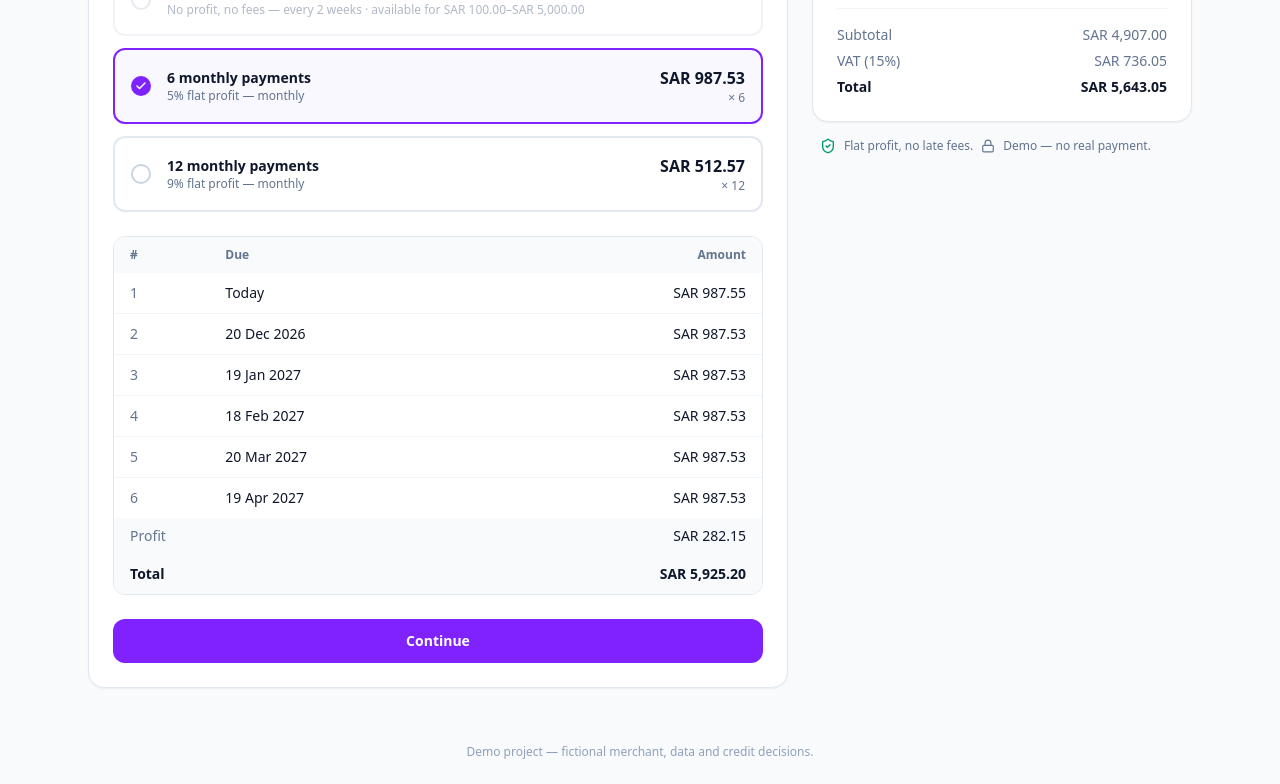
Scenario: <CheckoutPage /> › validates the details form
The image size is (1280, 784).
(page scrolled)
Click the button "Continue": (438, 641) [113,619,763,663]
(page scrolled)
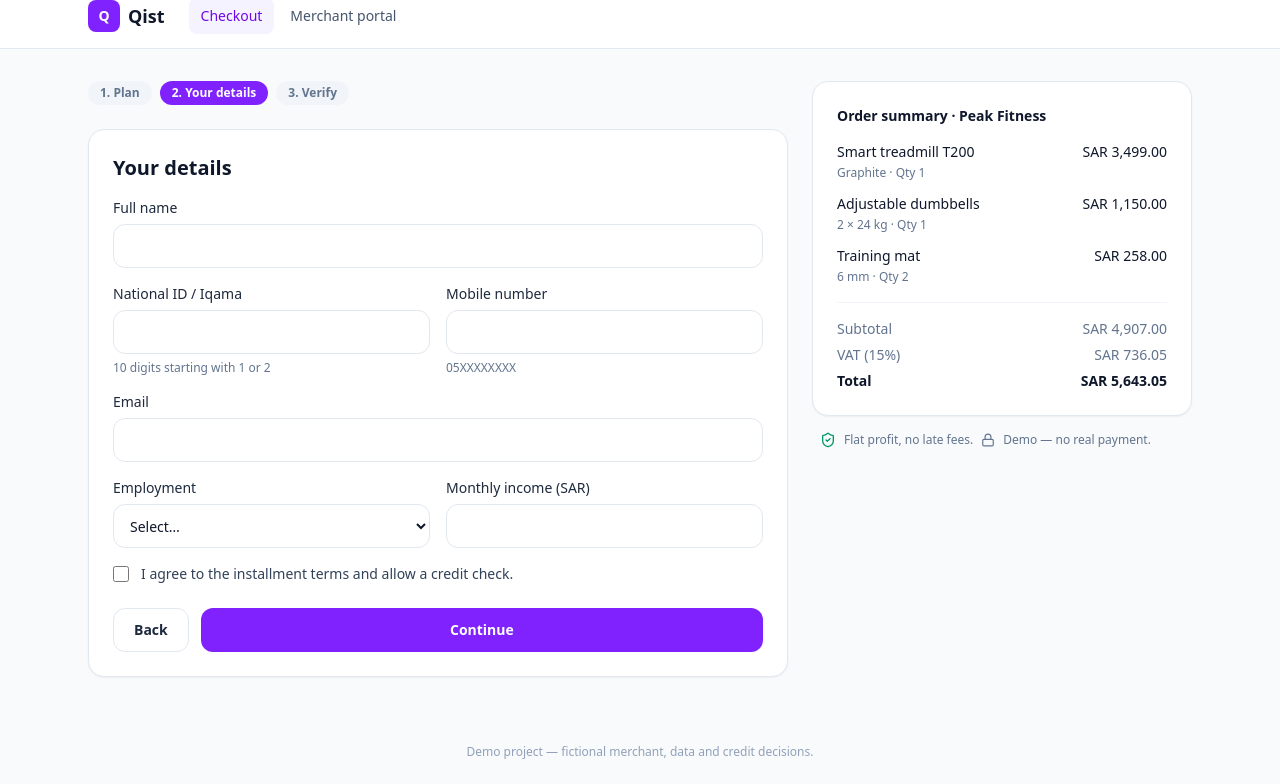
Click the button "Continue": (482, 630) [201,608,763,652]
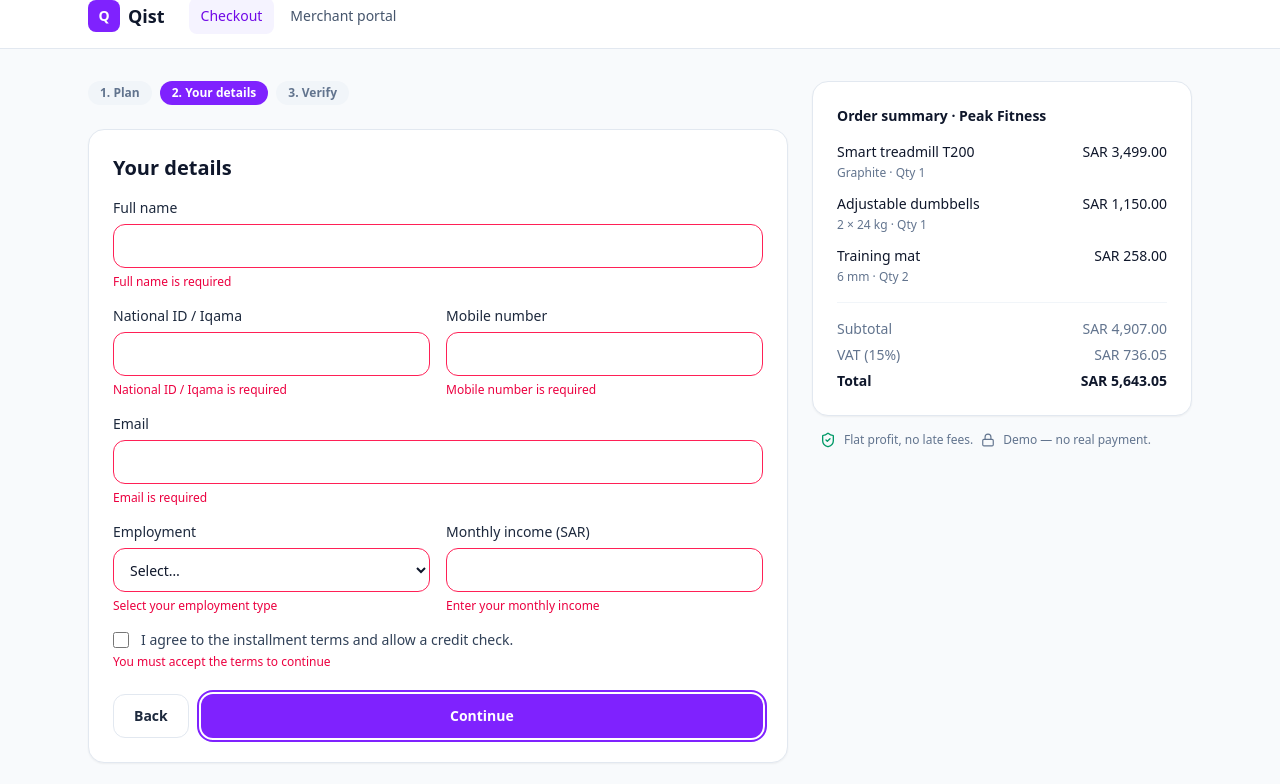
Now the text "Full name is required" is shown, box [113,273,231,290]
Now the text "You must accept the terms to continue" is shown, box [113,653,331,670]
